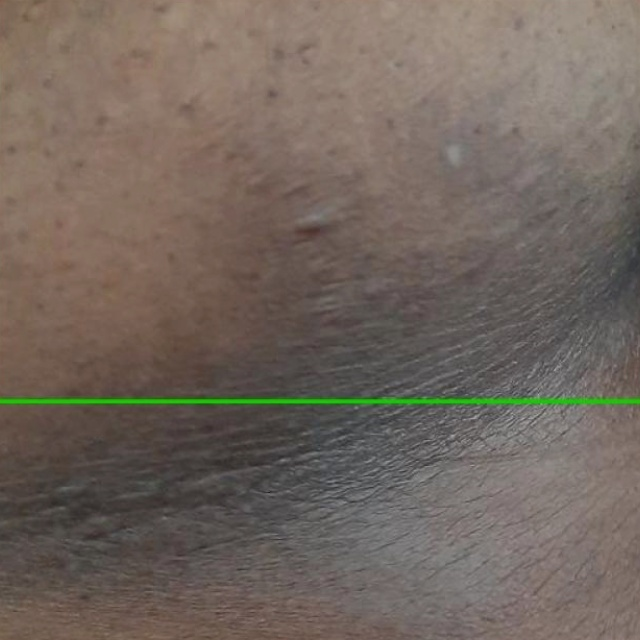Tinea Corporis: (0, 0, 639, 401)
